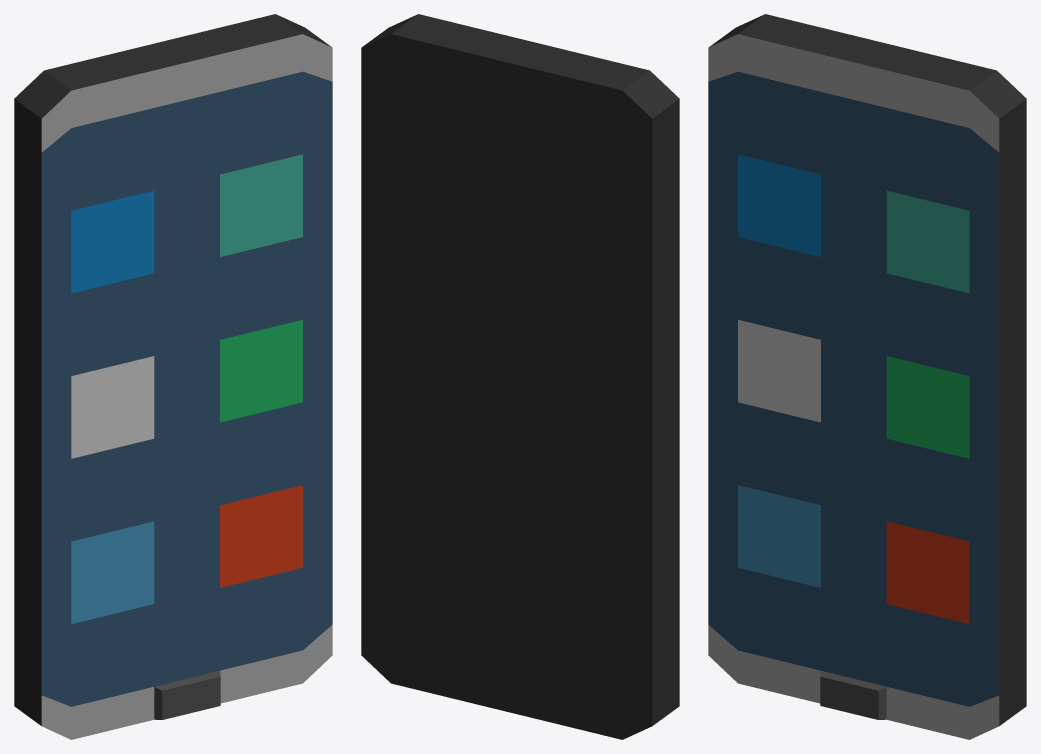
The model's file is Phone.fbx.
The picture shows the model from 3 angles, left to right: view 1: azimuth 30°, elevation 25°; view 2: azimuth 150°, elevation 25°; view 3: azimuth 330°, elevation 25°; orthographic projection.
Visible parts, largest first — view 1: Phone; view 2: Phone; view 3: Phone.
Part boxes in pixels (x1,y1,x2,y2): Phone: [14, 14, 332, 739]; Phone: [361, 14, 679, 739]; Phone: [708, 14, 1026, 739].
Bounding box in the file's own units: 13.61 × 29 × 2.57.
